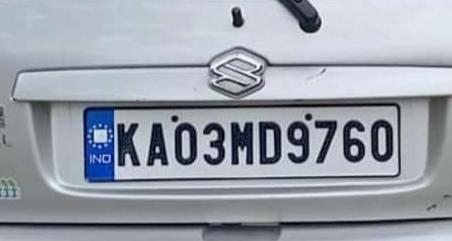0: (172, 114, 198, 171), (369, 119, 398, 167)
3: (202, 118, 226, 169)
6: (341, 119, 368, 164)
7: (312, 113, 341, 168)
9: (284, 118, 310, 169)
A: (144, 118, 169, 170)
D: (257, 117, 284, 169)
K: (114, 119, 143, 170)
M: (227, 116, 256, 169)
